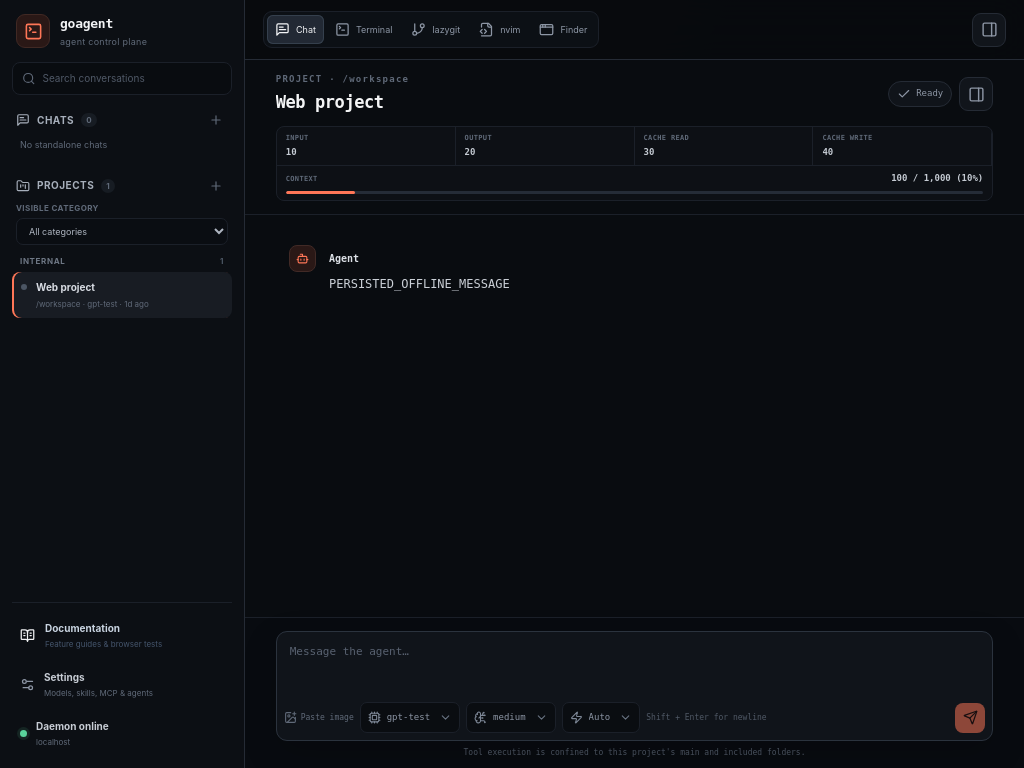
Test: App conversations › keeps the current transcript visible after a manual disconnect
Expected: the 7th text "PERSISTED_OFFLINE_MESSAGE" is shown, [329,276,510,290]
Type "/quit" into the text box labelled "Message the agent".
click(634, 664); type("/quit")  # box [277,632,992,697]
Then press Enter
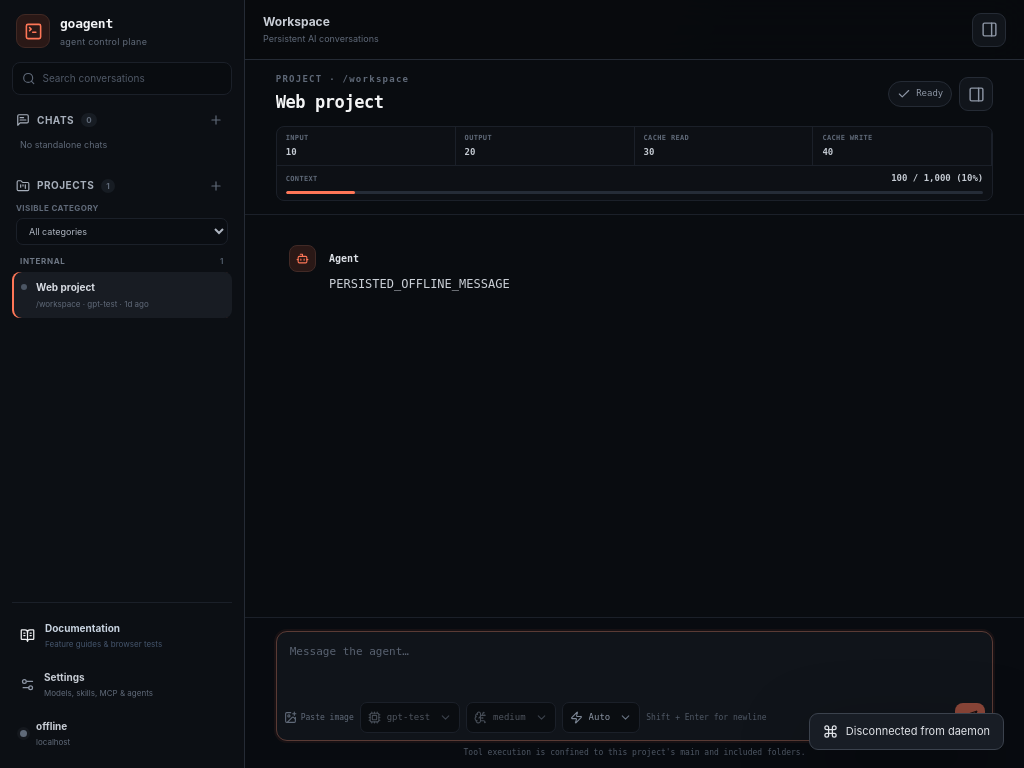
Expected: the 7th text "PERSISTED_OFFLINE_MESSAGE" is shown, [329,276,510,290]
Expected: the button "offline localhost" is shown
Click the button "offline localhost".
click(122, 734)  # box [12,711,232,756]
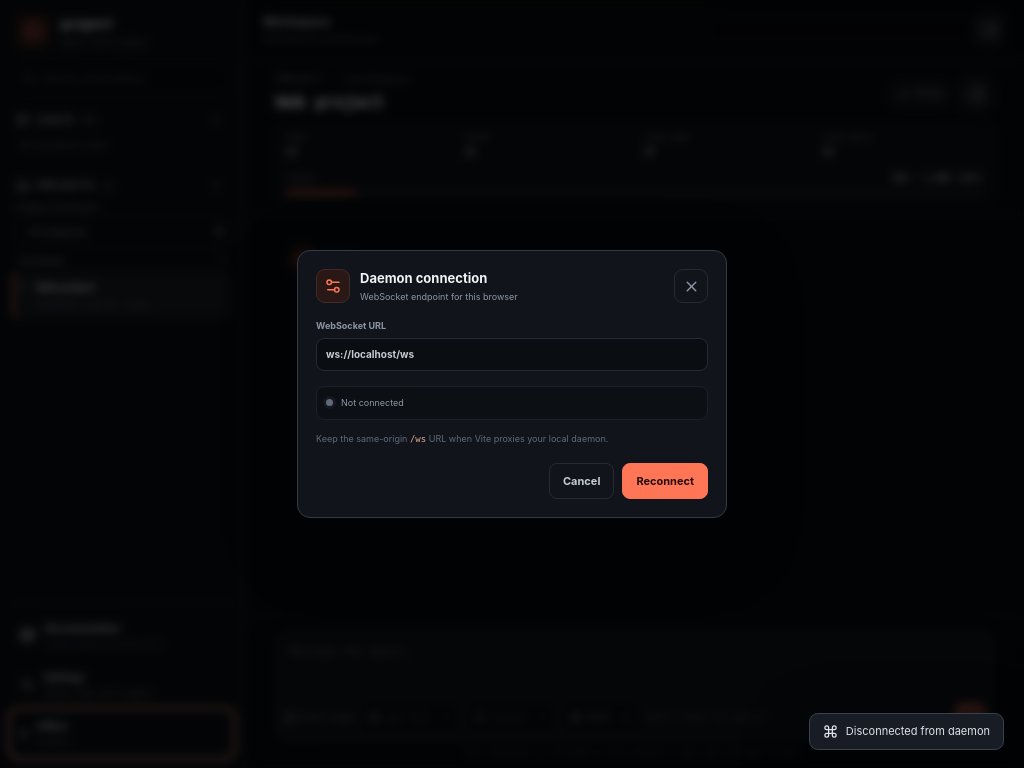
Click the button "Reconnect".
click(665, 482)  # box [622,464,708,500]
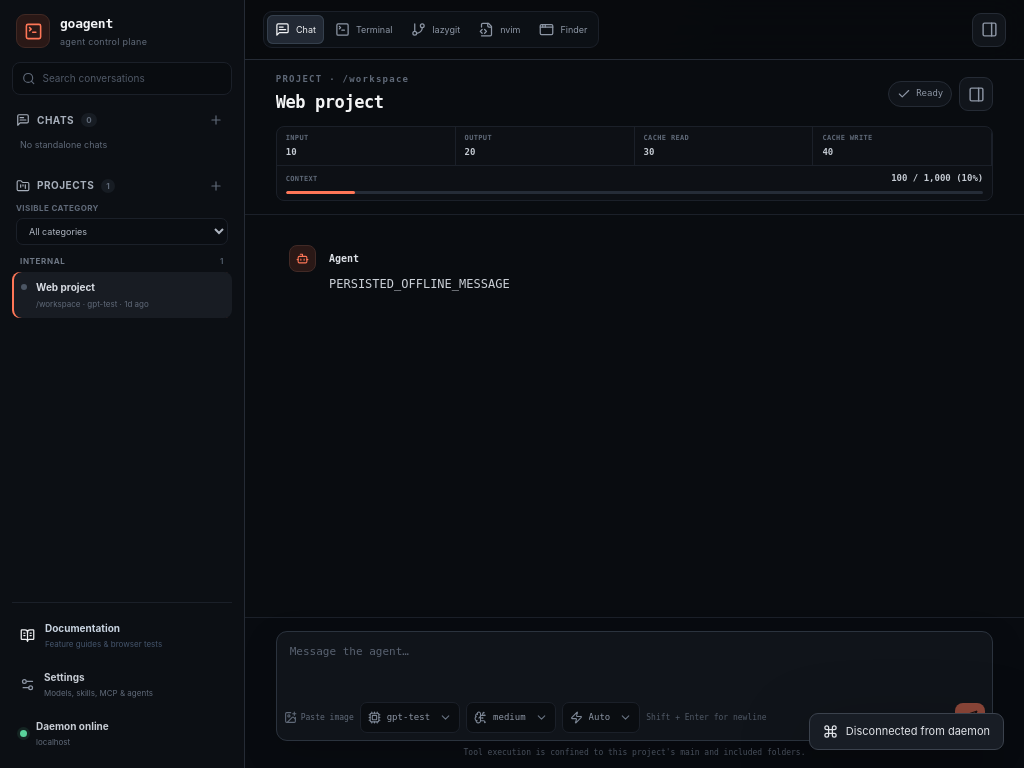
Expected: the 7th text "PERSISTED_OFFLINE_MESSAGE" is shown, [329,276,510,290]
Expected: the button "Daemon online localhost" is shown, [12,711,232,756]
